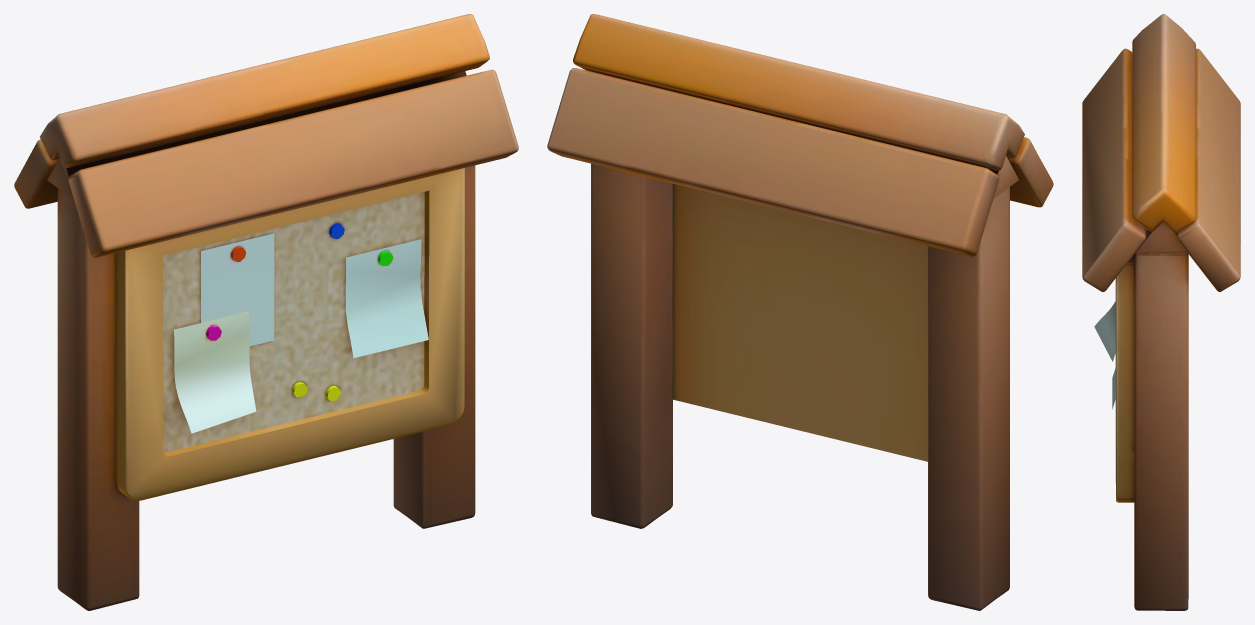
The model's file is board.glb.
3 renders of one model, left to right at view 1: azimuth 30°, elevation 25°; view 2: azimuth 150°, elevation 25°; view 3: azimuth 270°, elevation 25°, orthographic. The views are drawn at different scales.
Visible parts, largest first — view 1: Cube.002_Baked_Baked; view 2: Cube.002_Baked_Baked; view 3: Cube.002_Baked_Baked.
Boxes of the visible parts, x1=… form: Cube.002_Baked_Baked: x1=14, y1=14, x2=518, y2=610; Cube.002_Baked_Baked: x1=547, y1=14, x2=1053, y2=610; Cube.002_Baked_Baked: x1=1082, y1=14, x2=1240, y2=610.
Size of the model in its own units: 0.9628 by 1.08 by 0.3608.
Materials: 1 (1 with a texture image).
